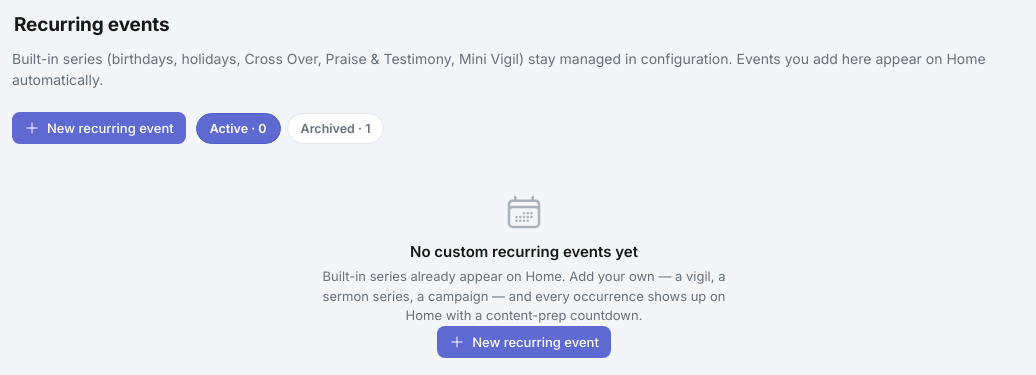
Test: AdminEvents restore feedback › a FAILED restore shows a role=alert error and keeps the archived row (retryable)
Click the button named "Archived events".
click(336, 128)  # box x1=287 y1=112 x2=384 y2=144
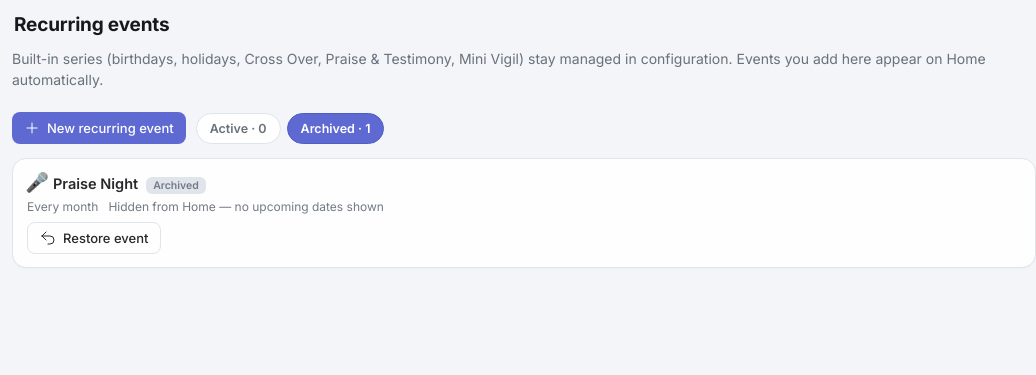
Click the button "Restore event".
click(94, 238)  # box x1=27 y1=222 x2=161 y2=254
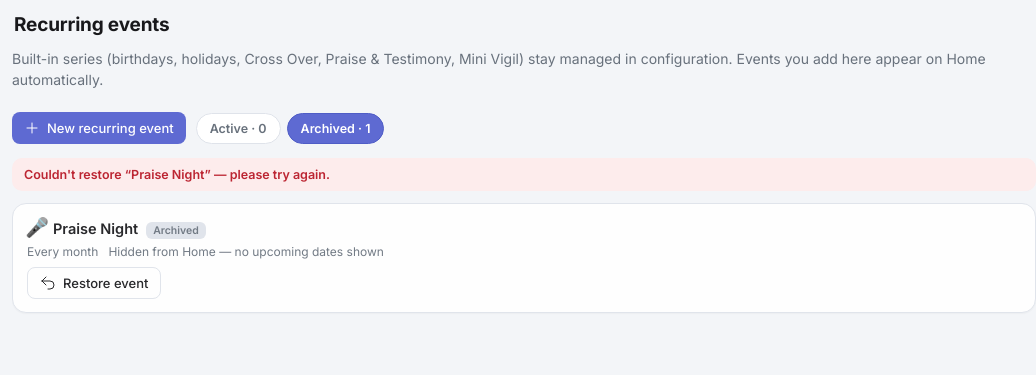
Check: the text "Praise Night" is shown, box x1=53 y1=220 x2=138 y2=236
Check: the button "Restore event" is shown, box x1=27 y1=267 x2=161 y2=299
Check: the message shows "Couldn't restore", box x1=24 y1=167 x2=330 y2=182
